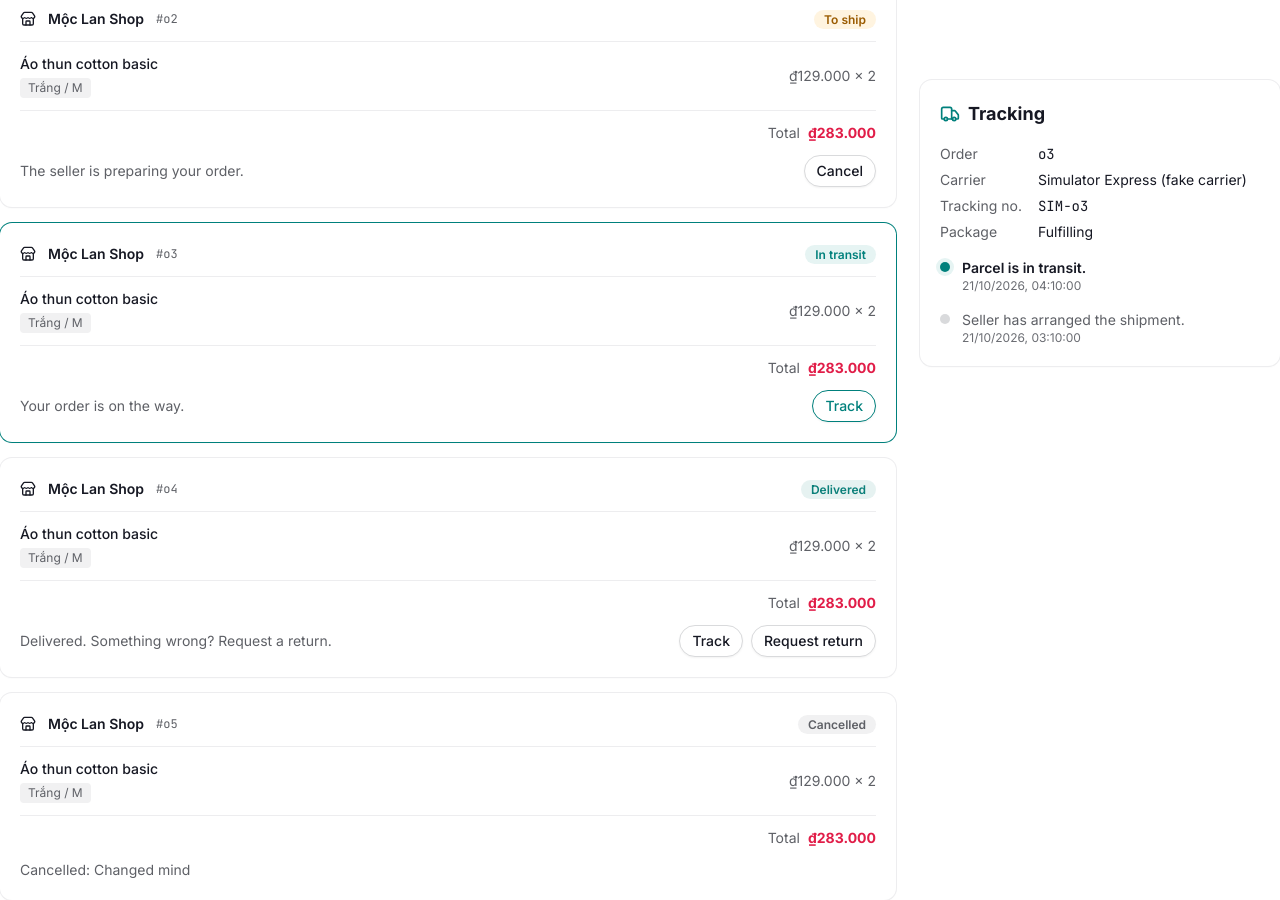
it: OrdersPage › shows tracking of the shipping order, then of the order chosen with Track
(page scrolled)
Expected: the text "SIM-o3" is shown, [1038,197,1088,215]
Expected: the text "Simulator Express (fake carrier)" is shown, [1038,170,1260,190]
Click the 2nd button "Track": [711, 641] box [679,625,743,657]
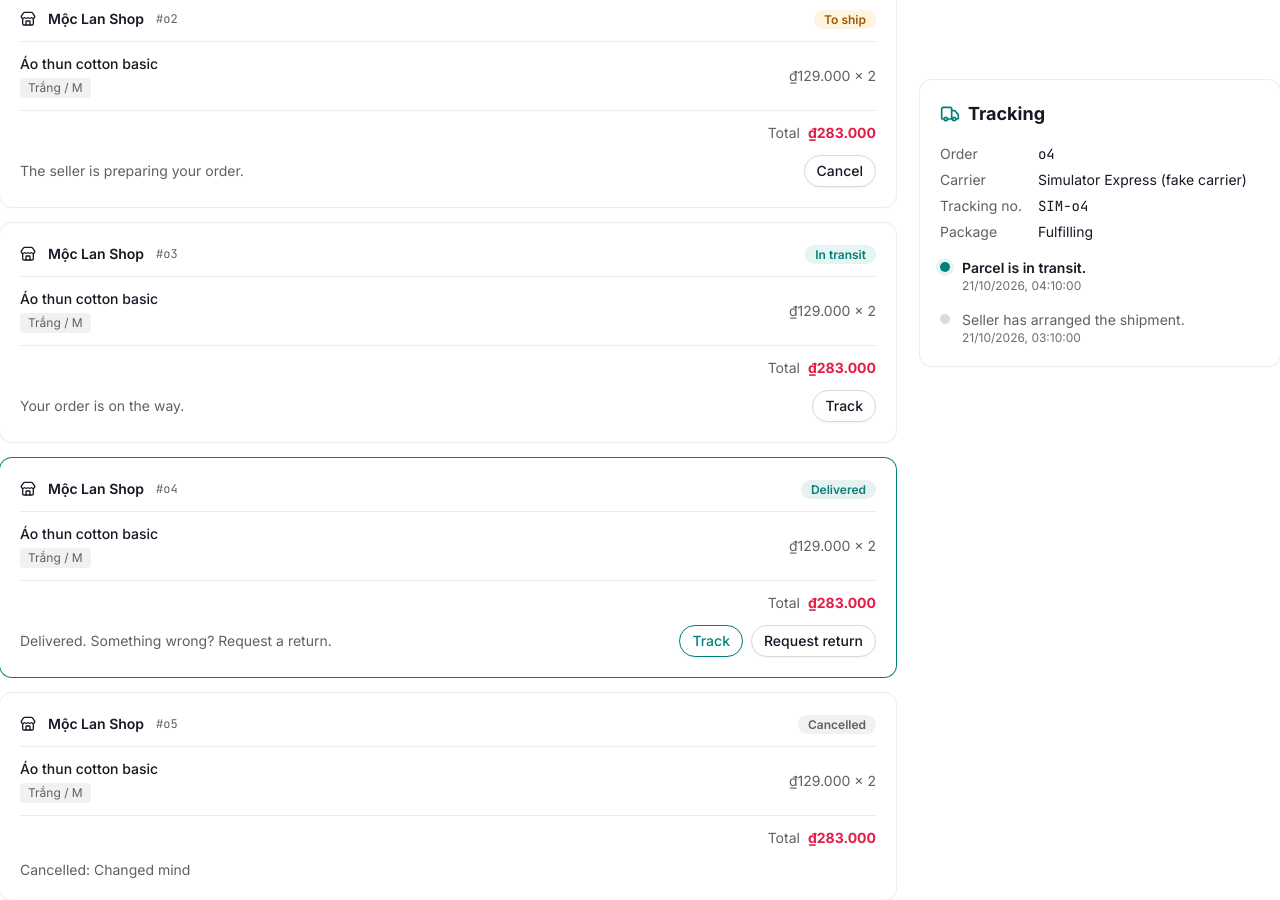
Expected: the text "SIM-o4" is shown, [1038,197,1088,215]
